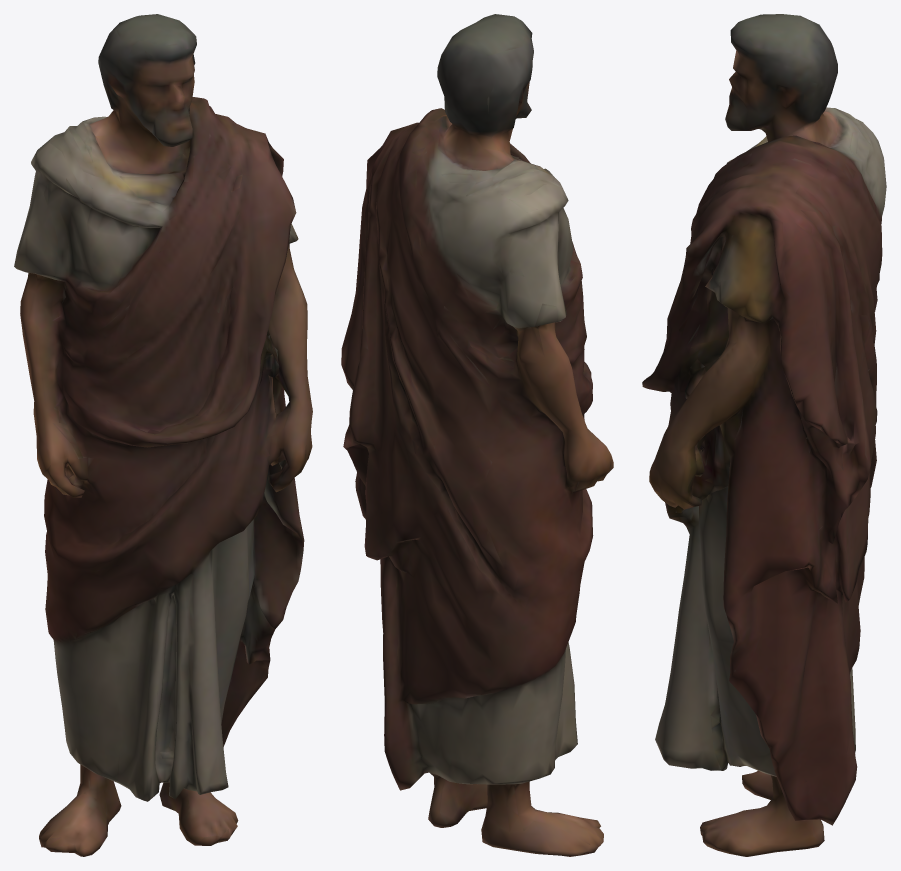
File: roman.glb
3 views of the same model, side by side, from view 1: azimuth 30°, elevation 25°; view 2: azimuth 150°, elevation 25°; view 3: azimuth 270°, elevation 25° (orthographic).
Visible parts, largest first — view 1: Object_4; view 2: Object_4; view 3: Object_4.
Boxes of the visible parts, bbox=[...] form: Object_4: bbox=[14, 14, 312, 856]; Object_4: bbox=[341, 14, 613, 856]; Object_4: bbox=[642, 14, 886, 856].
Bounding box in the file's own units: 0.6477 × 1.99 × 0.5453.
1 material, 1 textured.
